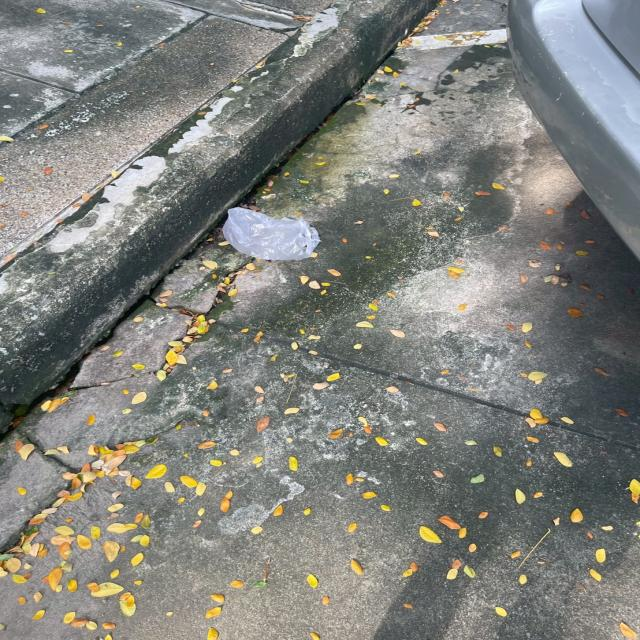plastic bag: (221, 204, 349, 276)
